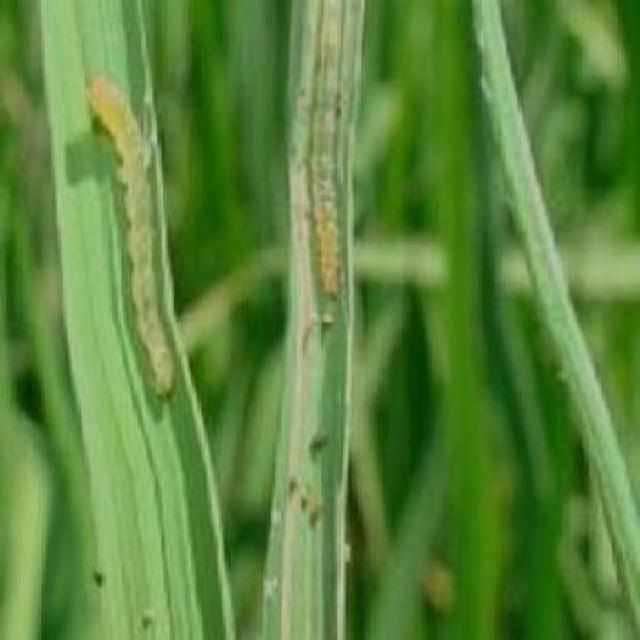leaf-folder: (78, 48, 202, 458), (288, 2, 377, 336)
